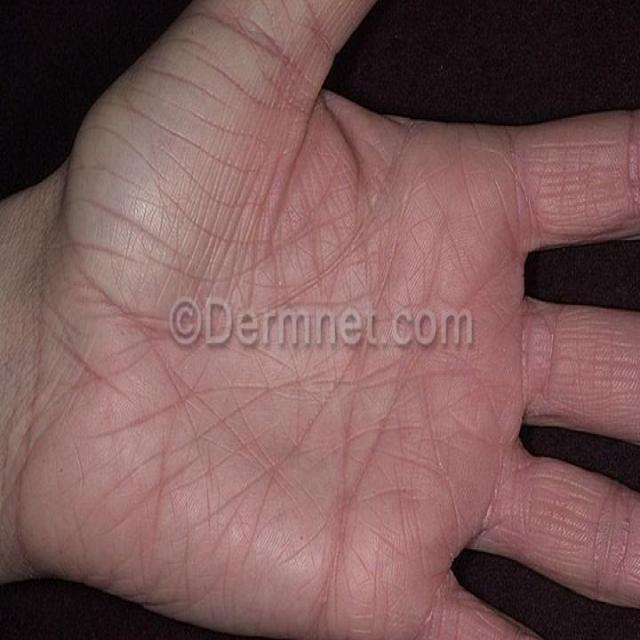liquenificacion 1: (61, 69, 637, 639)
